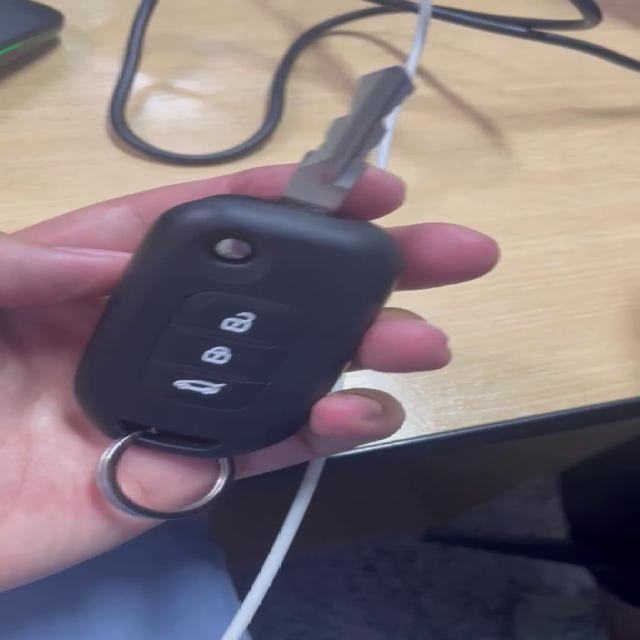llave-auto: (46, 49, 559, 607)
